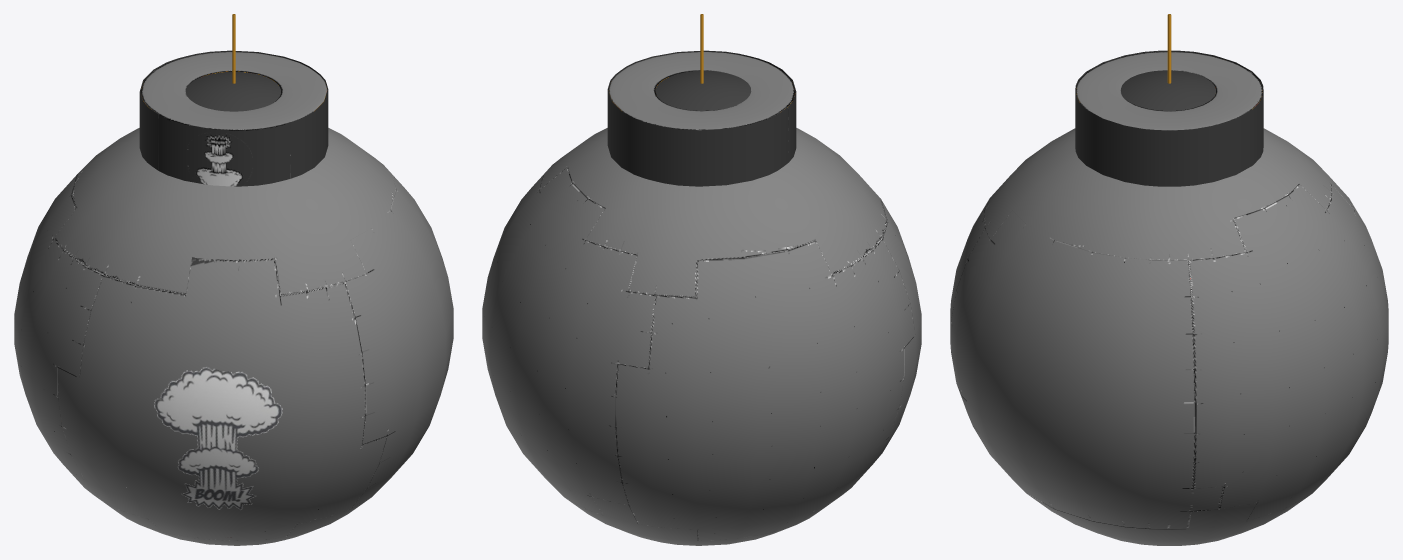
Rendered from bombeBonus.fbx.
3 views of the same model, side by side, from view 1: azimuth 30°, elevation 25°; view 2: azimuth 150°, elevation 25°; view 3: azimuth 270°, elevation 25° (orthographic).
Visible parts, largest first — view 1: SurfSphere; view 2: SurfSphere; view 3: SurfSphere.
Part boxes in pixels (x1=…): SurfSphere: x1=14, y1=50, x2=453, y2=545; SurfSphere: x1=482, y1=50, x2=921, y2=545; SurfSphere: x1=950, y1=50, x2=1388, y2=545.
Bounding box in the file's own units: 2.53 × 3.25 × 2.53.
Materials: 2 (1 with a texture image).
